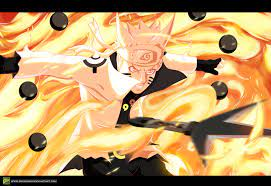Naruto: (109, 17, 167, 96)
